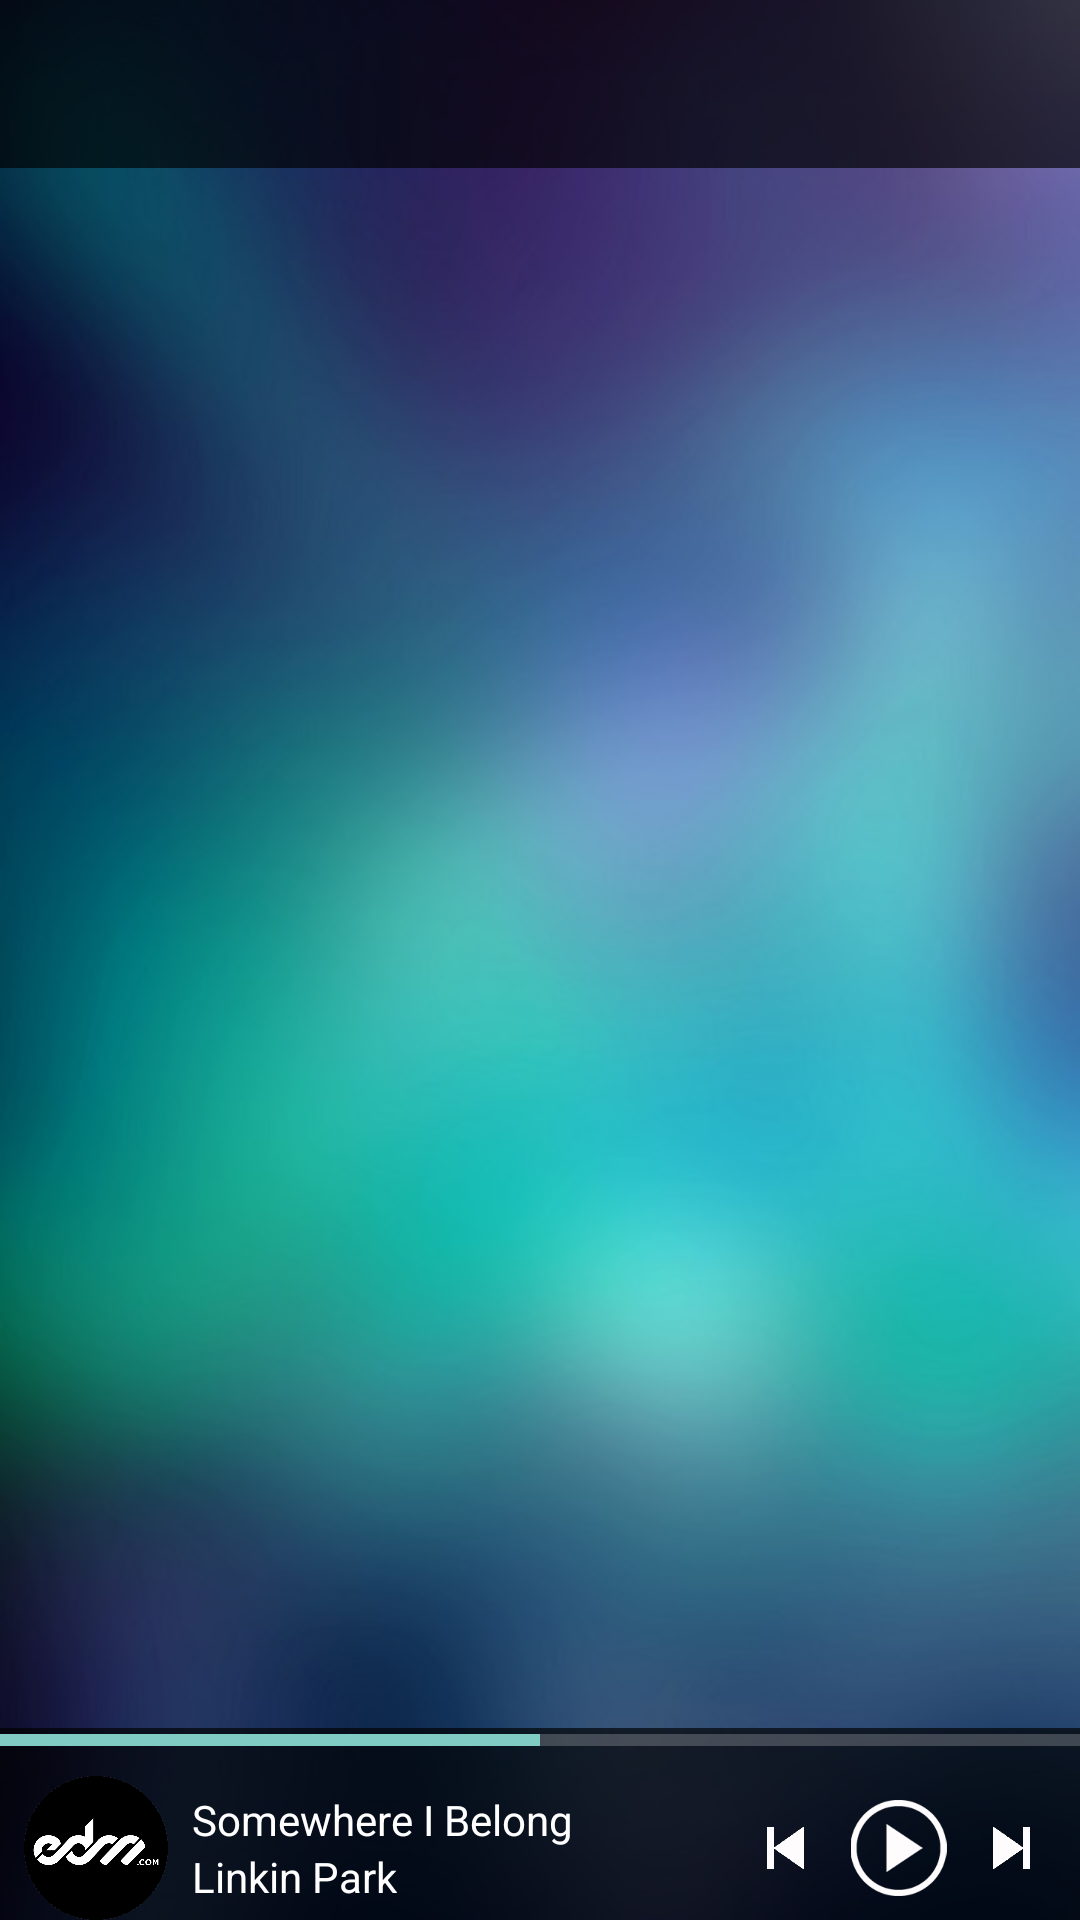

Icons on this 1080w x 1920h Android screen, each with its box as (x1, y1, x2, y2):
next: (993, 1827, 1030, 1869)
play: (851, 1800, 947, 1896)
prev: (767, 1827, 804, 1869)
